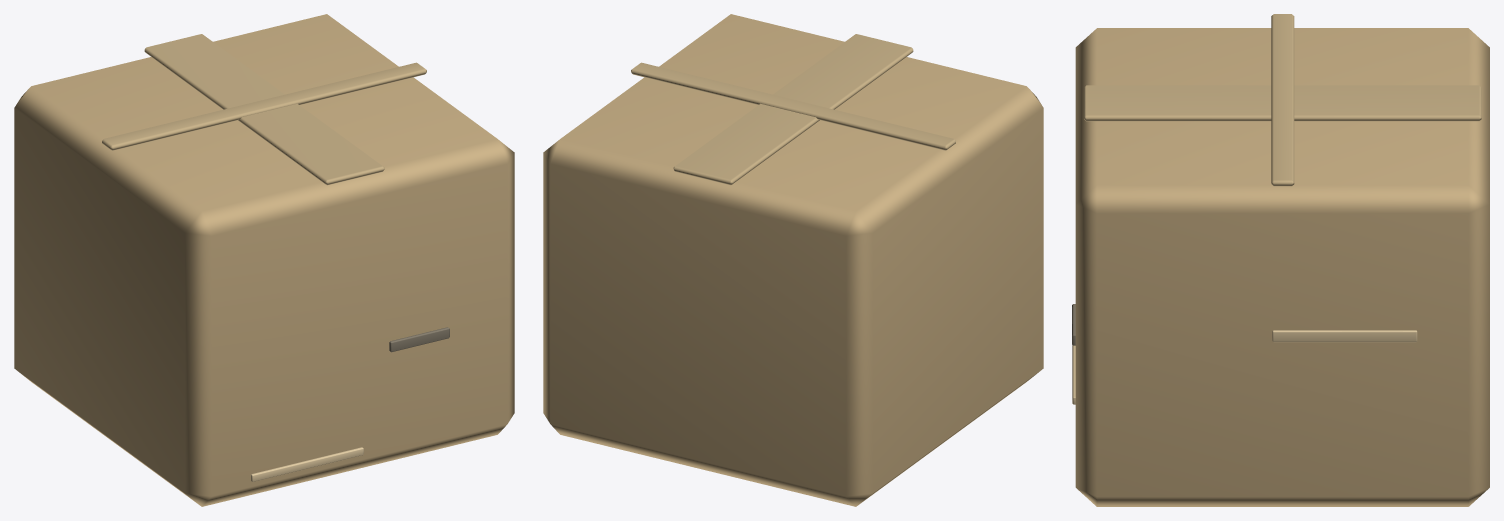
The model's file is Box_Small_A.glb.
3 renders of one model, left to right at view 1: azimuth 30°, elevation 25°; view 2: azimuth 150°, elevation 25°; view 3: azimuth 270°, elevation 25°, orthographic. The views are drawn at different scales.
Visible parts, largest first — view 1: Box_Small_A_body, Box_Small_A_top_tape_long, Box_Small_A_top_tape_cross, Box_Small_A_front_bottom_wear, Box_Small_A_small_scuff; view 2: Box_Small_A_body, Box_Small_A_top_tape_long, Box_Small_A_top_tape_cross; view 3: Box_Small_A_body, Box_Small_A_top_tape_long, Box_Small_A_top_tape_cross, Box_Small_A_side_edge_wear.
Boxes of the visible parts, box(x1,y1,x2,y2) form: Box_Small_A_body: box(14, 14, 514, 506); Box_Small_A_top_tape_long: box(144, 34, 384, 185); Box_Small_A_top_tape_cross: box(102, 62, 426, 150); Box_Small_A_front_bottom_wear: box(251, 447, 363, 481); Box_Small_A_small_scuff: box(389, 327, 449, 352); Box_Small_A_body: box(543, 14, 1043, 506); Box_Small_A_top_tape_long: box(673, 34, 913, 185); Box_Small_A_top_tape_cross: box(631, 62, 955, 150); Box_Small_A_body: box(1075, 28, 1489, 506); Box_Small_A_top_tape_long: box(1084, 85, 1481, 121); Box_Small_A_top_tape_cross: box(1271, 14, 1294, 186); Box_Small_A_side_edge_wear: box(1272, 330, 1417, 342).
Size of the model in its own units: 0.3527 by 0.309 by 0.3531.
